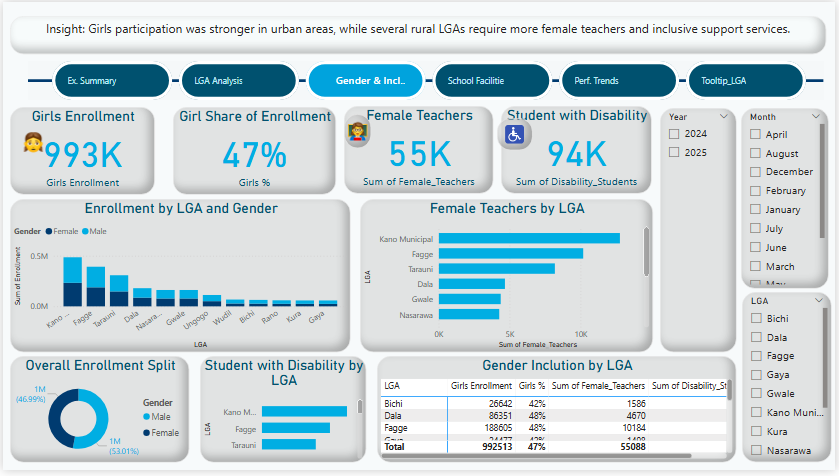

Layout of this report page (visuals, bound fields, positions):
{"tool":"powerbi","page":{"name":"Gender & Inclusion","canvas":[1280,720],"ordinal":2},"visuals":[{"type":"card","title":"Girl Share of Enrollment ","fields":{"Values":["Raw_Data.Girls %"]},"box":[262.1,161.3,250.6,135.4],"z":0},{"type":"columnChart","title":"Enrollment by LGA and Gender","fields":{"Category":["Raw_Data.LGA"],"Y":["Sum(Raw_Data.Enrollment)"],"Series":["Raw_Data.Gender"]},"box":[11.5,302.4,524.2,236.2],"z":1000},{"type":"card","title":"Girls Enrollment","fields":{"Values":["Raw_Data.Girls Enrollment"]},"box":[11.5,161.3,223.2,135.4],"z":2000},{"type":"card","title":"Female Teachers","fields":{"Values":["Sum(Raw_Data.Female_Teachers)"]},"box":[524.2,160.6,230.4,135.4],"z":3000,"group":"g1"},{"type":"clusteredBarChart","title":"Female Teachers by LGA","fields":{"Category":["Raw_Data.LGA"],"Y":["Sum(Raw_Data.Female_Teachers)"]},"box":[548.6,302.4,450.7,236.2],"z":3000},{"type":"donutChart","title":"Overall Enrollment Split","fields":{"Category":["Raw_Data.Gender"],"Y":["Sum(Raw_Data.Enrollment)"]},"box":[11.5,544.3,276.5,164.2],"z":4000},{"type":"card","title":"Student with Disability","fields":{"Values":["Sum(Raw_Data.Disability_Students)"]},"box":[765.9,160.6,232,135.4],"z":5000,"group":"g2"},{"type":"barChart","title":"Student with Disability by LGA","fields":{"Y":["Sum(Raw_Data.Disability_Students)"],"Category":["Raw_Data.LGA"]},"box":[303.8,544.3,256.3,164.2],"z":5000},{"type":"pivotTable","title":"Gender Inclution by LGA","fields":{"Rows":["Raw_Data.LGA"],"Values":["Raw_Data.Girls Enrollment","Raw_Data.Girls %","Sum(Raw_Data.Female_Teachers)","Sum(Raw_Data.Disability_Students)"]},"box":[576,544.3,553,164.2],"z":6000},{"type":"slicer","fields":{"Values":["Raw_Data.Year"]},"box":[1010.9,162.7,118.1,375.8],"z":7000},{"type":"slicer","fields":{"Values":["Raw_Data.Month"]},"box":[1134.7,162.7,135.4,277.9],"z":8000},{"type":"slicer","fields":{"Values":["Raw_Data.LGA"]},"box":[1136.2,446.4,138.2,262.1],"z":9000},{"type":"textbox","box":[11.5,21.6,1255.7,59],"z":10000},{"type":"image","box":[11.5,193,72,46.1],"z":11000},{"type":"group","id":"g1","title":"Group 1","box":[524.2,160.6,230.4,135.4],"z":12000},{"type":"image","box":[524.2,173.6,42.4,53.3],"z":12000,"group":"g1"},{"type":"group","id":"g2","title":"Group 2","box":[760.3,160.6,237.6,135.4],"z":13000},{"type":"image","box":[760.3,179.3,54.8,50.4],"z":13000,"group":"g2"},{"type":"shape","box":[38.9,90.7,1224,60.5],"z":14000},{"type":"pageNavigator","box":[74.9,90.3,1160.6,60.5],"z":15000}]}

Visuals, with their boxes in screenshot pixels (x1, y1, x2, y2), scaled from the page's 1280x720 canvas onto the 839x476 screenshot:
"Girl Share of Enrollment " card: [left=172, top=107, right=336, bottom=196]
"Enrollment by LGA and Gender" columnChart: [left=8, top=200, right=351, bottom=356]
"Girls Enrollment" card: [left=8, top=107, right=154, bottom=196]
"Female Teachers" card: [left=344, top=106, right=495, bottom=196]
"Female Teachers by LGA" clusteredBarChart: [left=360, top=200, right=655, bottom=356]
"Overall Enrollment Split" donutChart: [left=8, top=360, right=189, bottom=468]
"Student with Disability" card: [left=502, top=106, right=654, bottom=196]
"Student with Disability by LGA" barChart: [left=199, top=360, right=367, bottom=468]
"Gender Inclution by LGA" pivotTable: [left=378, top=360, right=740, bottom=468]
slicer - Raw_Data.Year: [left=663, top=108, right=740, bottom=356]
slicer - Raw_Data.Month: [left=744, top=108, right=833, bottom=291]
slicer - Raw_Data.LGA: [left=745, top=295, right=835, bottom=468]
textbox: [left=8, top=14, right=831, bottom=53]
image: [left=8, top=128, right=55, bottom=158]
"Group 1" group: [left=344, top=106, right=495, bottom=196]
image: [left=344, top=115, right=371, bottom=150]
"Group 2" group: [left=498, top=106, right=654, bottom=196]
image: [left=498, top=119, right=534, bottom=152]
shape: [left=25, top=60, right=828, bottom=100]
pageNavigator: [left=49, top=60, right=810, bottom=100]
